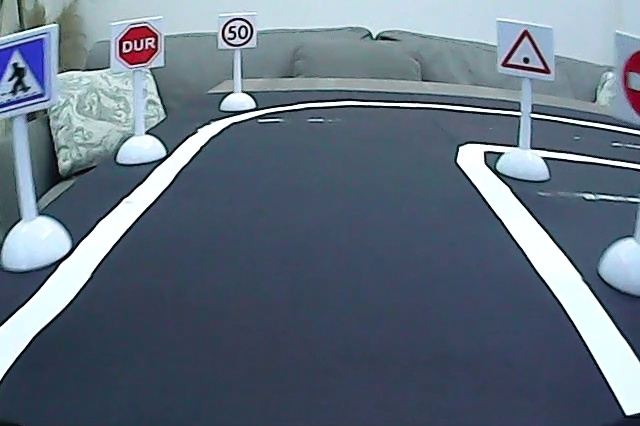green light: (495, 22, 558, 79)
pedestrian crossing: (1, 28, 52, 115)
speed limit 50: (220, 15, 254, 48)
stop sign: (110, 20, 164, 71)
